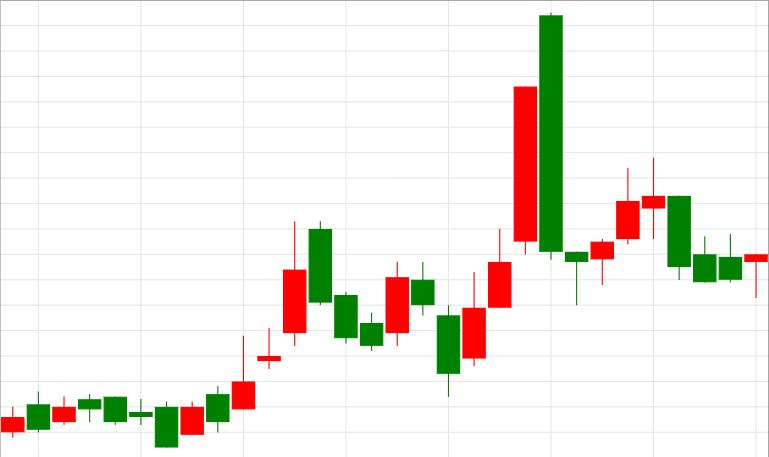bearish_engulfing_fall: (437, 12, 563, 397)
